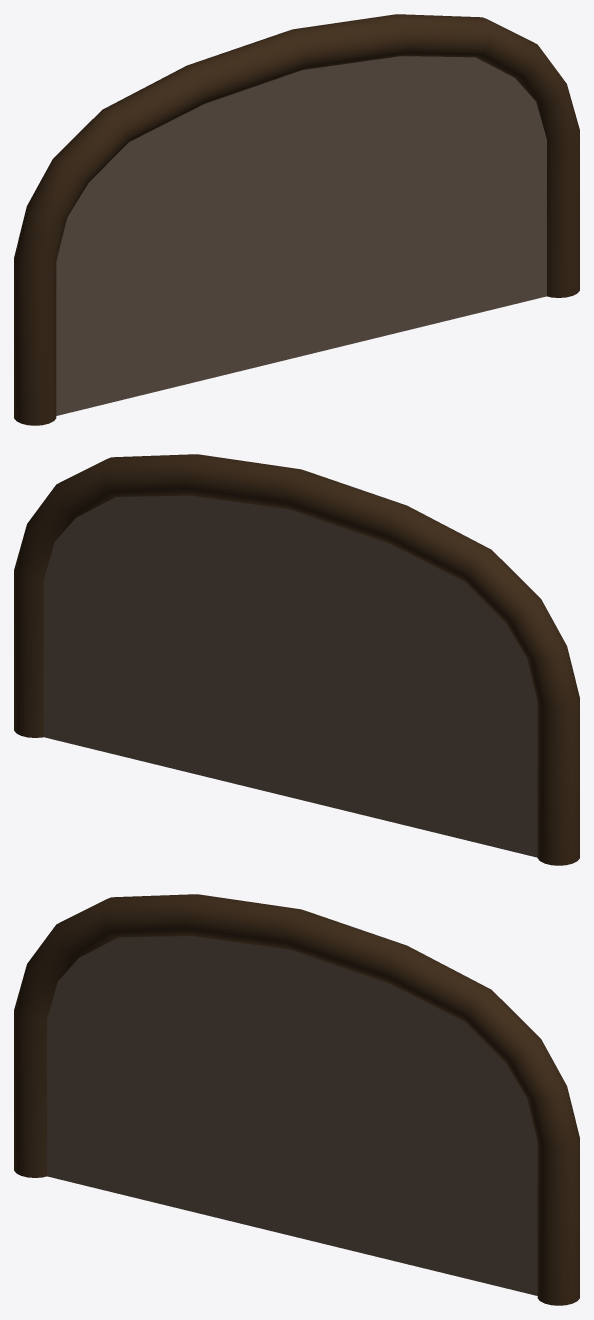
Rendered from Archway.FBX.
3 renders of one model, top to bottom at view 1: azimuth 30°, elevation 25°; view 2: azimuth 150°, elevation 25°; view 3: azimuth 330°, elevation 25°, orthographic.
Visible parts, largest first — view 1: Door_right, Door_left, Archway; view 2: Door_left, Door_right, Archway; view 3: Door_left, Door_right, Archway.
Boxes of the visible parts, box(x1,y1,x2,y2) form: Door_right: box(301, 56, 546, 355); Door_left: box(56, 70, 301, 415); Archway: box(14, 14, 579, 425); Door_left: box(290, 510, 537, 857); Door_right: box(43, 495, 290, 797); Archway: box(14, 454, 579, 865); Door_left: box(47, 936, 292, 1235); Door_right: box(292, 950, 537, 1295); Archway: box(14, 894, 579, 1305).
Bounding box in the file's own units: 750 × 411 × 49.14.
